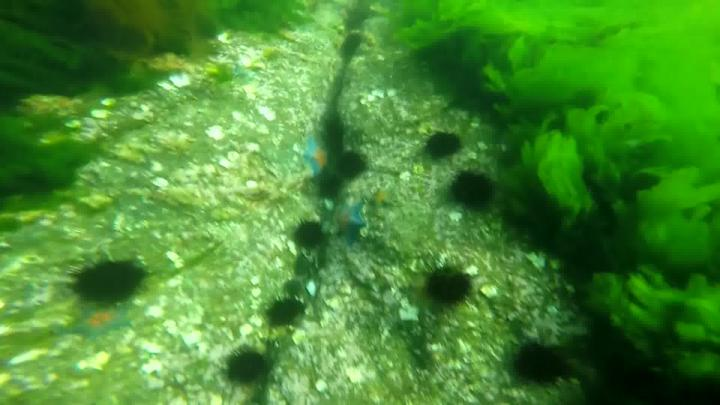echinus: (69, 259, 149, 300), (512, 341, 575, 385), (70, 303, 131, 345), (450, 168, 497, 209), (428, 265, 473, 303), (303, 135, 339, 181), (225, 350, 273, 382), (336, 193, 362, 246), (270, 294, 306, 323), (429, 130, 463, 160), (315, 171, 346, 201), (297, 217, 325, 249), (365, 183, 395, 211), (342, 153, 367, 179)
scallop: (256, 101, 280, 122), (171, 71, 193, 89), (206, 126, 228, 142), (234, 55, 256, 68), (483, 284, 500, 299)
